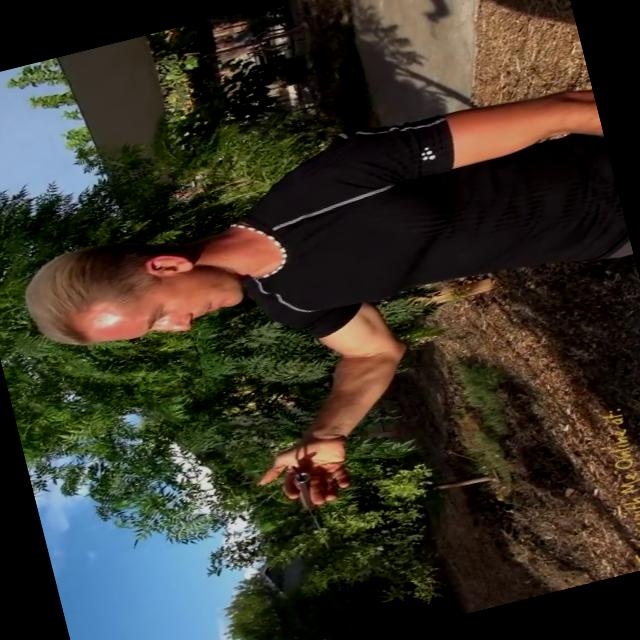knife: (261, 437, 345, 564)
